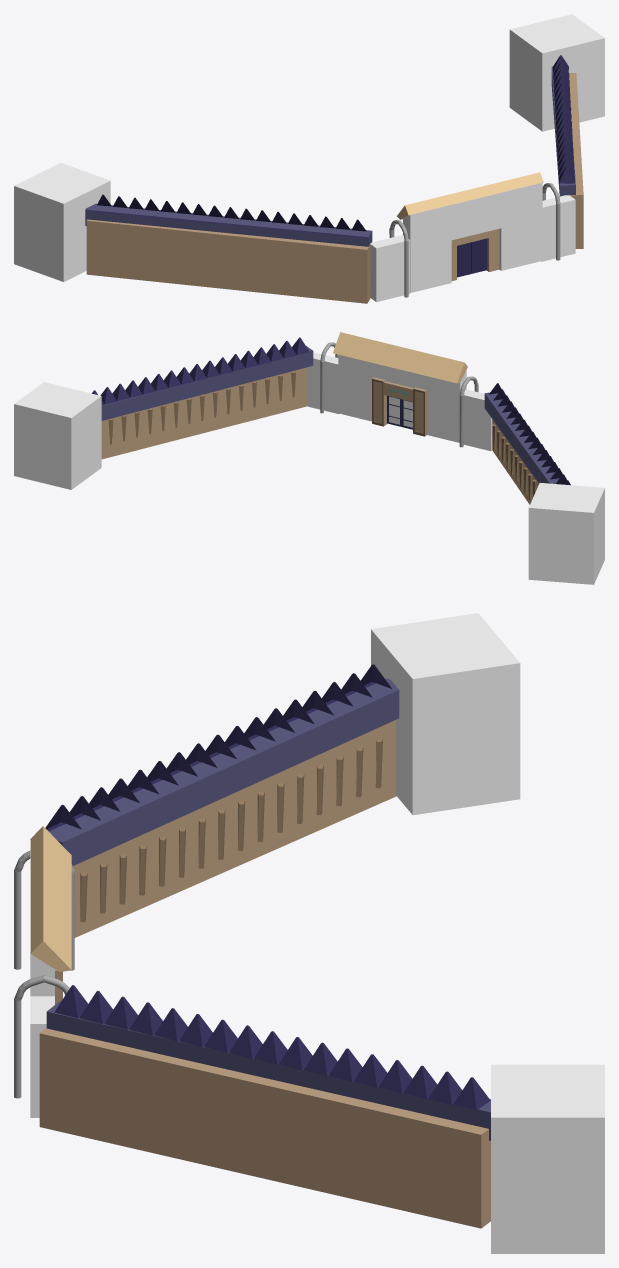
Rendered from vorota ishtar.gltf.
3 views of the same model, one above another, from view 1: azimuth 30°, elevation 25°; view 2: azimuth 150°, elevation 25°; view 3: azimuth 270°, elevation 25° (orthographic). The views are drawn at different scales.
Parts seen in each view (by area): view 1: Cube.005; view 2: Cube.005; view 3: Cube.005.
Part boxes in pixels (left/top/right/bottom): Cube.005: left=14, top=14, right=604, bottom=303; Cube.005: left=14, top=332, right=604, bottom=584; Cube.005: left=14, top=613, right=604, bottom=1253.
Size of the model in its own units: 319 by 44.34 by 158.
